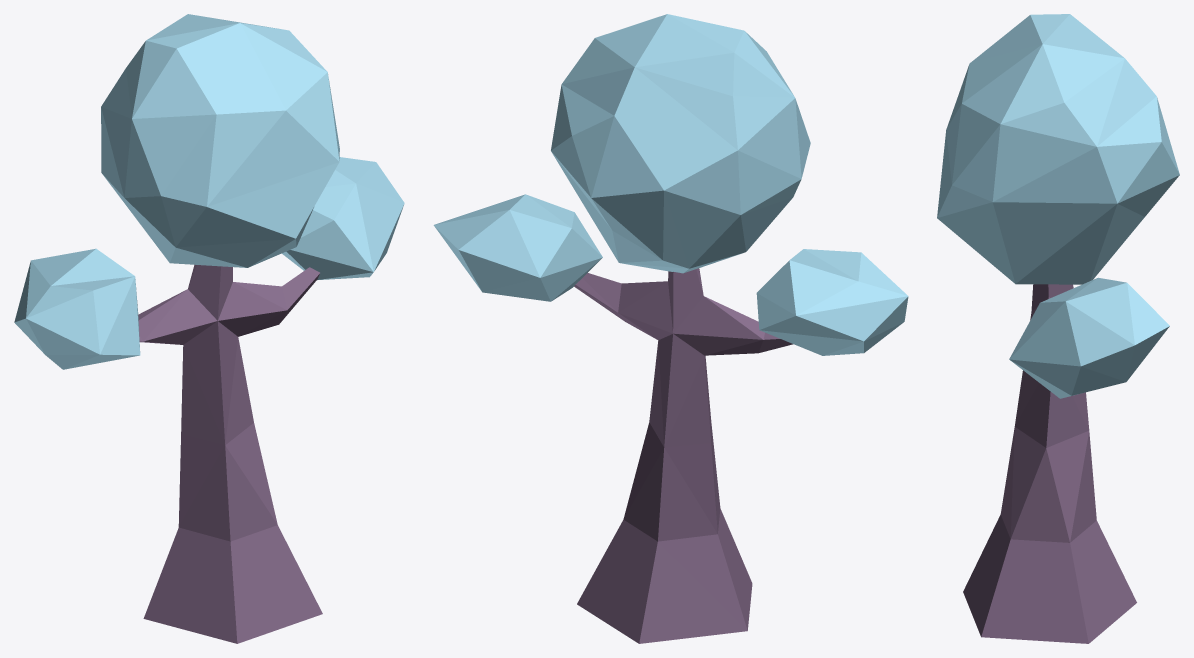
File: Low_Poly_Tree_Grave.fbx
3 views of the same model, side by side, from view 1: azimuth 30°, elevation 25°; view 2: azimuth 150°, elevation 25°; view 3: azimuth 270°, elevation 25° (orthographic). The views are drawn at different scales.
Parts seen in each view (by area): view 1: Low_Poly_Tree_003; view 2: Low_Poly_Tree_003; view 3: Low_Poly_Tree_003.
Boxes of the visible parts, x1,y1,x2,y2 form: Low_Poly_Tree_003: (14, 14, 404, 643); Low_Poly_Tree_003: (433, 14, 908, 643); Low_Poly_Tree_003: (937, 14, 1179, 643).
Size of the model in its own units: 752 by 1017 by 394.
